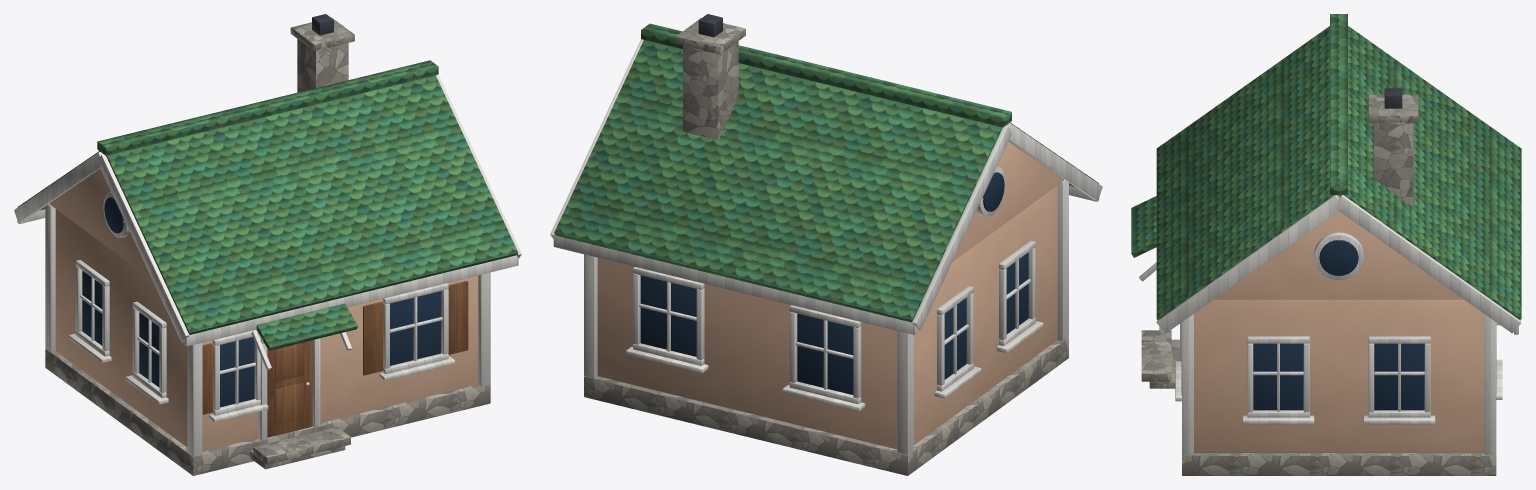
Rendered from house_small.glb.
3 renders of one model, left to right at view 1: azimuth 30°, elevation 25°; view 2: azimuth 150°, elevation 25°; view 3: azimuth 270°, elevation 25°, orthographic. The views are drawn at different scales.
Parts seen in each view (by area): view 1: house_small; view 2: house_small; view 3: house_small.
Boxes of the visible parts, box(x1,y1,x2,y2) form: house_small: box(14, 14, 521, 475); house_small: box(550, 14, 1102, 475); house_small: box(1131, 14, 1521, 475).
Size of the model in its own units: 8.18 by 7.64 by 7.75.
Materials: 8 (8 with a texture image).
